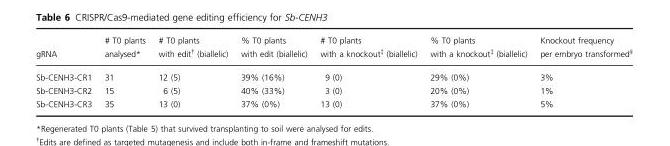table: (35, 36, 631, 108)
table column: (313, 36, 423, 108), (423, 36, 532, 108), (532, 36, 631, 108), (151, 36, 233, 108), (233, 36, 313, 108), (35, 36, 97, 108), (97, 36, 151, 108)
table column header: (35, 36, 631, 65)
table row: (35, 36, 631, 65), (35, 65, 631, 83), (35, 83, 631, 97), (35, 97, 631, 108)
